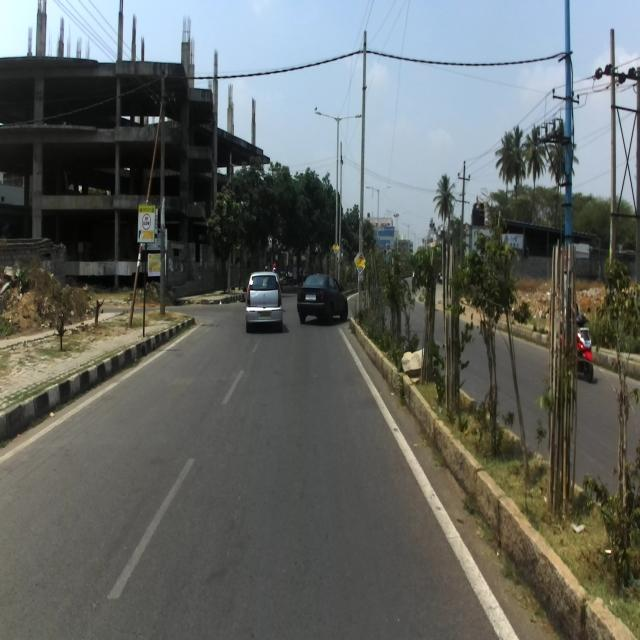car: (297, 274, 349, 324), (246, 266, 283, 330)
motorcycle: (559, 308, 594, 381)
